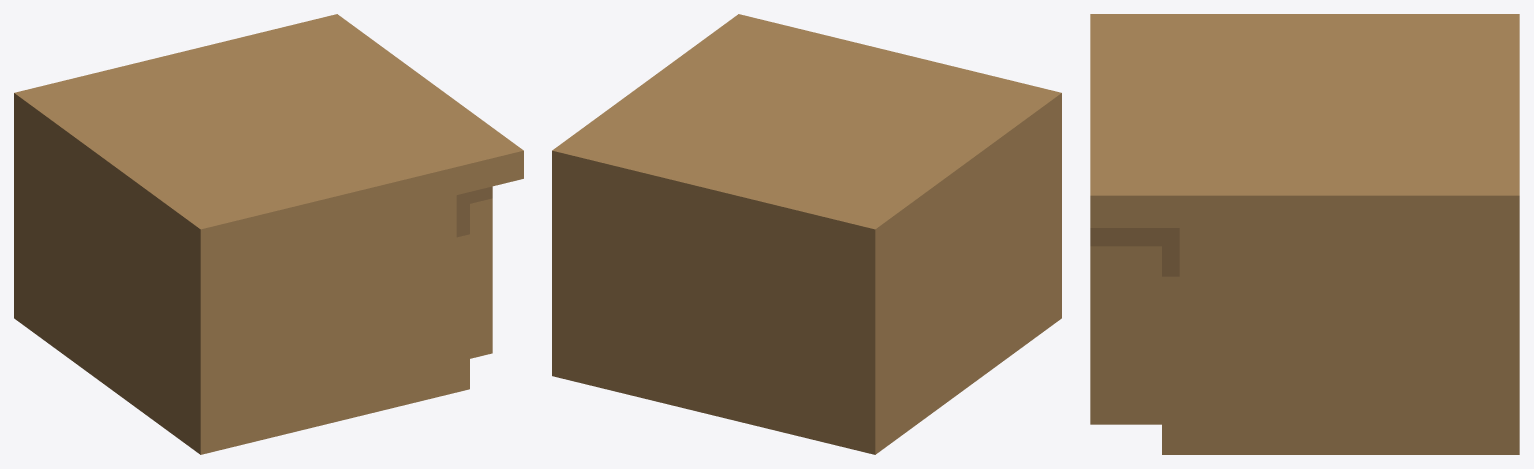
File: CookingTableCorner.fbx
3 views of the same model, side by side, from view 1: azimuth 30°, elevation 25°; view 2: azimuth 150°, elevation 25°; view 3: azimuth 270°, elevation 25° (orthographic). The views are drawn at different scales.
Visible parts, largest first — view 1: cookingtable_corner; view 2: cookingtable_corner; view 3: cookingtable_corner.
Part boxes in pixels (bbox=[...]): cookingtable_corner: bbox=[14, 14, 523, 454]; cookingtable_corner: bbox=[552, 14, 1061, 454]; cookingtable_corner: bbox=[1090, 14, 1519, 454].
Size of the model in its own units: 240 by 160 by 240.
1 material, 1 textured.
